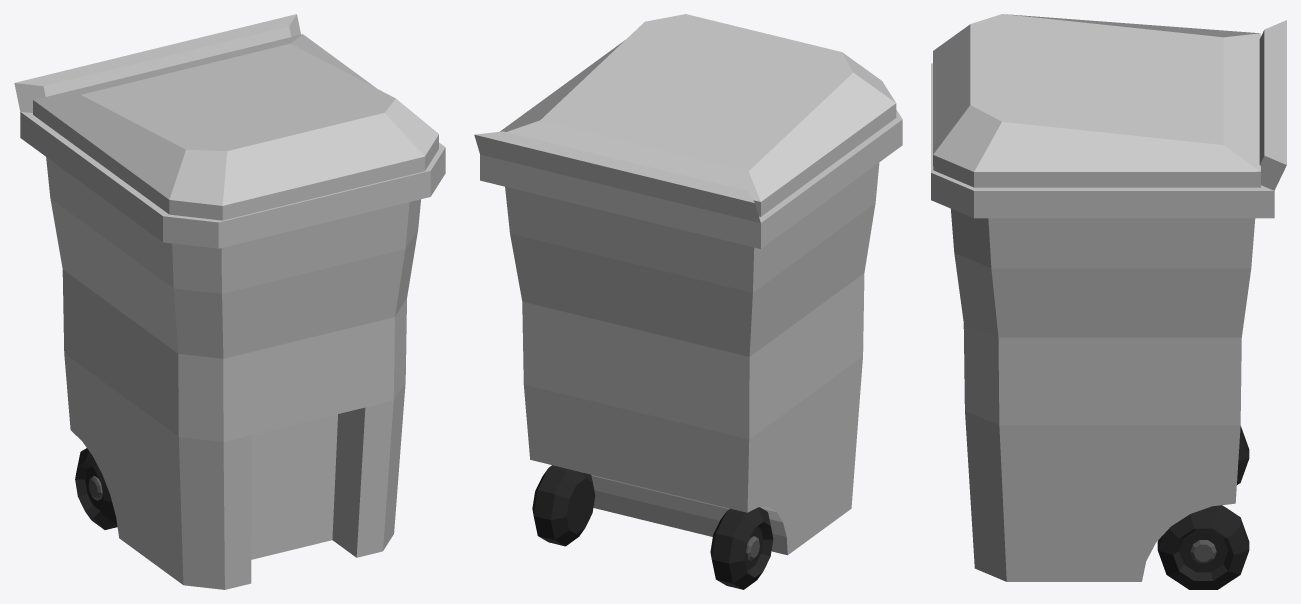
Rendered from TrashBin.fbx.
3 views of the same model, side by side, from view 1: azimuth 30°, elevation 25°; view 2: azimuth 150°, elevation 25°; view 3: azimuth 270°, elevation 25° (orthographic). The views are drawn at different scales.
Parts seen in each view (by area): view 1: TrashLid; view 2: TrashLid; view 3: TrashLid.
Part boxes in pixels (x1=…): TrashLid: x1=14, y1=14, x2=445, y2=589; TrashLid: x1=474, y1=14, x2=902, y2=589; TrashLid: x1=931, y1=14, x2=1286, y2=589.
Size of the model in its own units: 0.0728 by 0.111 by 0.0754.
